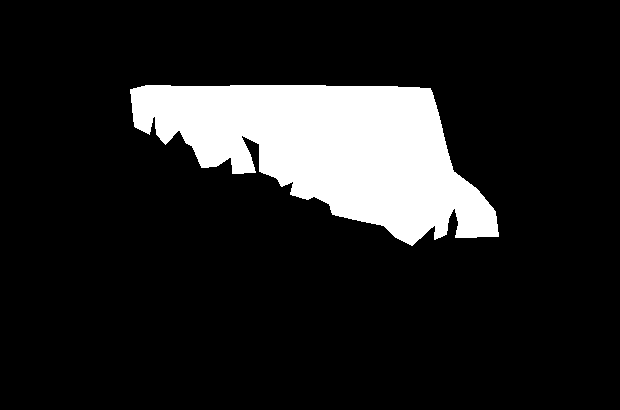type2: (126, 78, 501, 249)
